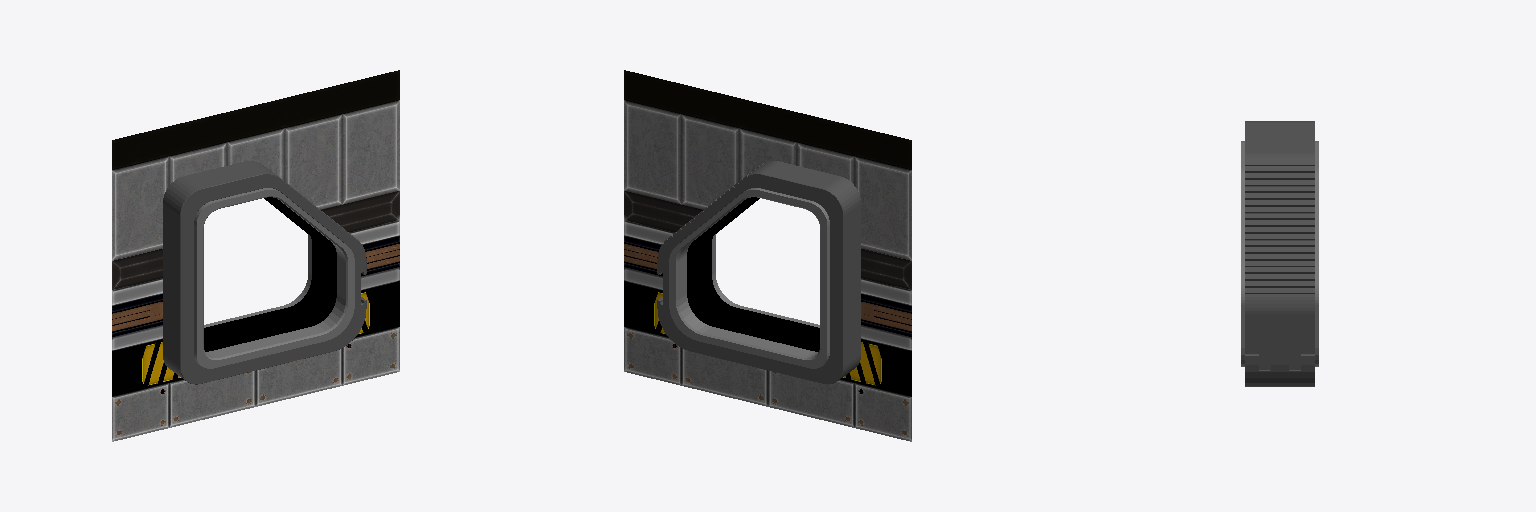
3 views of the same model, side by side, from view 1: azimuth 30°, elevation 25°; view 2: azimuth 150°, elevation 25°; view 3: azimuth 270°, elevation 25° (orthographic).
Visible parts, largest first — view 1: Object_4_Object_0; view 2: Object_4_Object_0; view 3: Object_4_Object_0.
Boxes of the visible parts, x1=… form: Object_4_Object_0: x1=112, y1=70, x2=399, y2=441; Object_4_Object_0: x1=624, y1=70, x2=911, y2=441; Object_4_Object_0: x1=1241, y1=121, x2=1318, y2=386.
Bounding box in the file's own units: 1 × 1 × 0.2367.
5 materials, 5 textured.